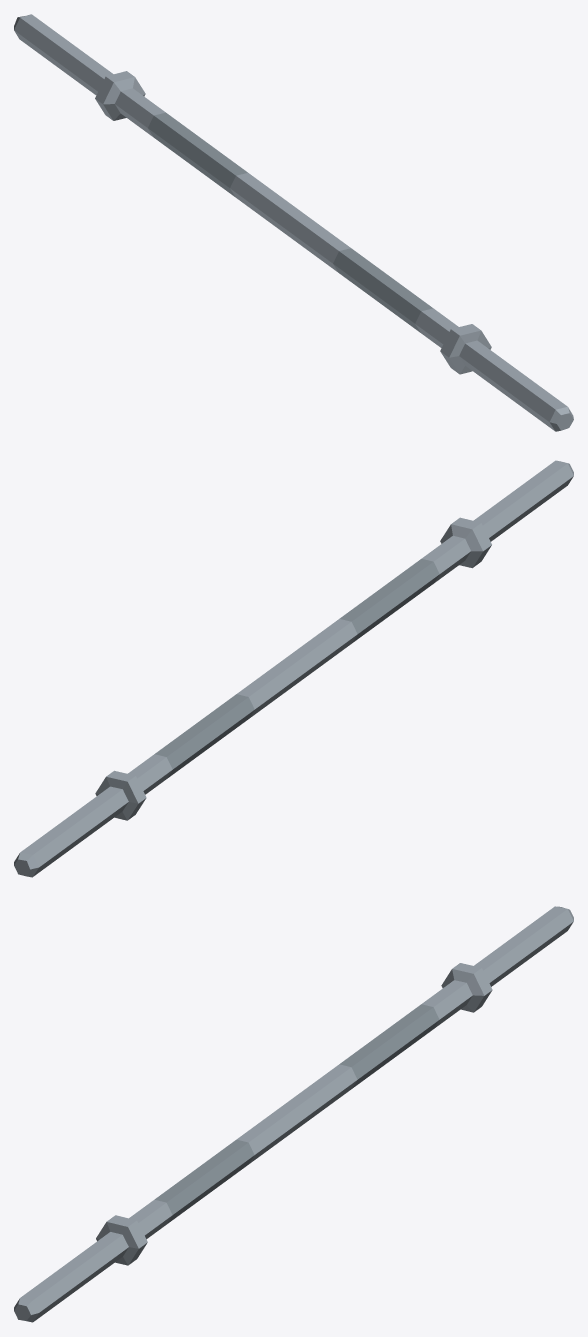
The model's file is SM_Prop_Bar_Bell_01.fbx.
The picture shows the model from 3 angles, top to bottom: view 1: azimuth 30°, elevation 25°; view 2: azimuth 150°, elevation 25°; view 3: azimuth 330°, elevation 25°; orthographic projection.
Visible parts, largest first — view 1: SM_Prop_Bar_Bell_01; view 2: SM_Prop_Bar_Bell_01; view 3: SM_Prop_Bar_Bell_01.
Boxes of the visible parts, <box> form: SM_Prop_Bar_Bell_01: <box>14,14,573,431</box>; SM_Prop_Bar_Bell_01: <box>14,460,573,877</box>; SM_Prop_Bar_Bell_01: <box>14,906,573,1322</box>.
Size of the model in its own units: 8.42 by 7.29 by 185.
